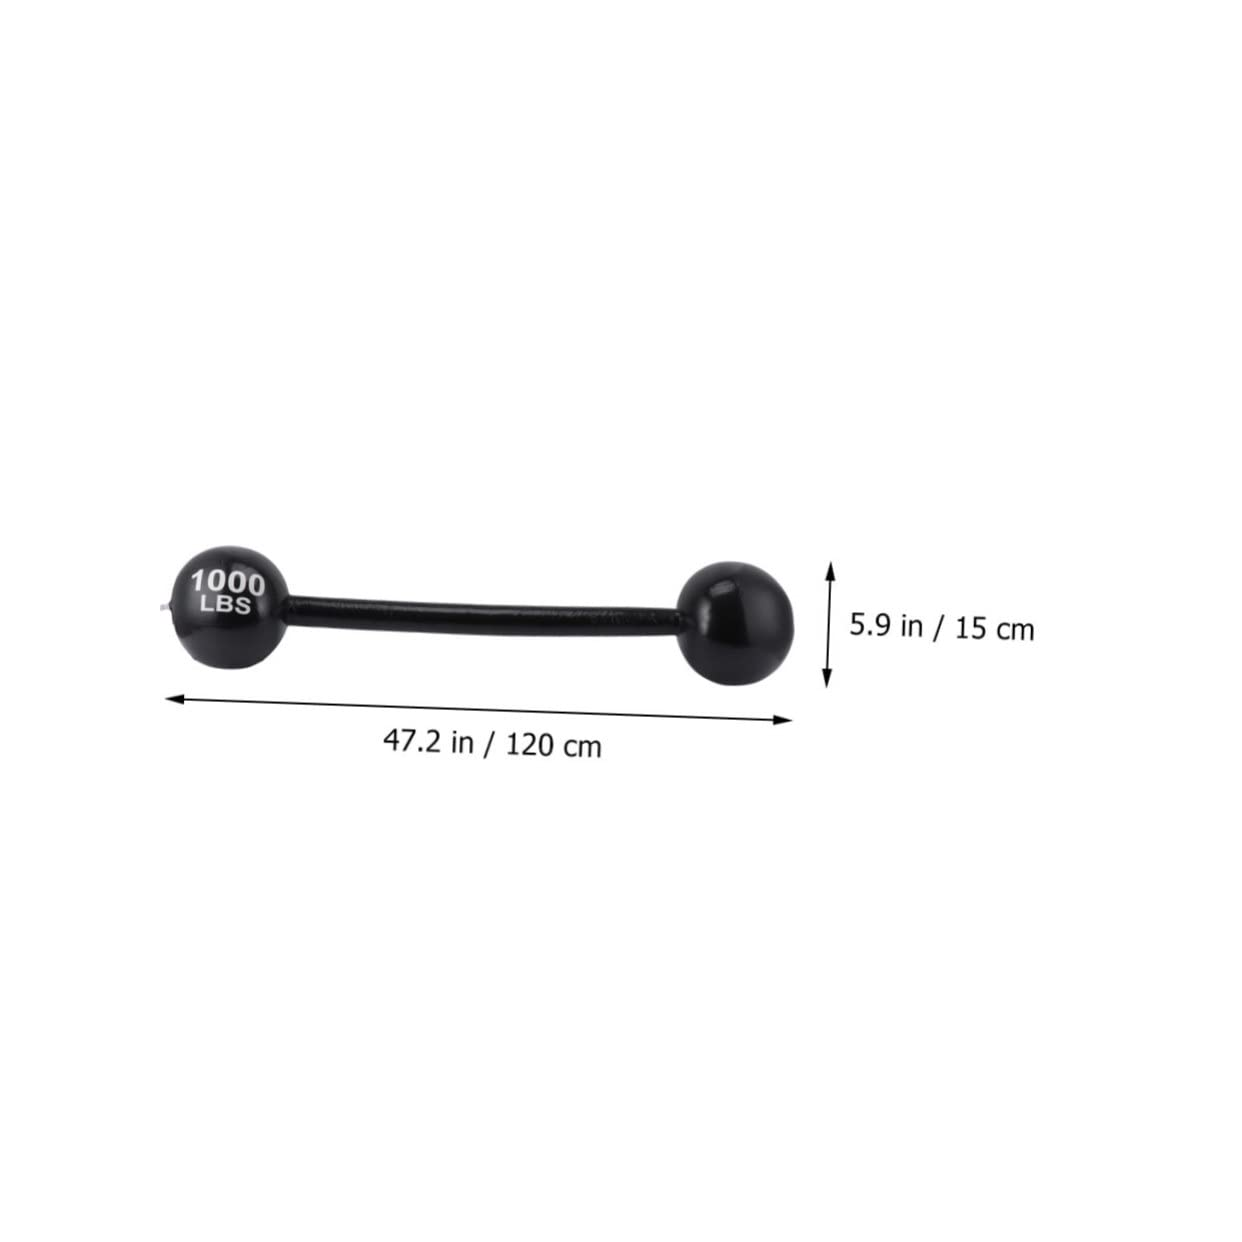/: (933, 615, 944, 641)
100: (192, 569, 246, 593)
15cm: (957, 616, 1034, 640)
47.2: (384, 729, 440, 752)
5.9: (851, 612, 891, 636)
in: (902, 614, 922, 637)
in/: (453, 731, 495, 757)
